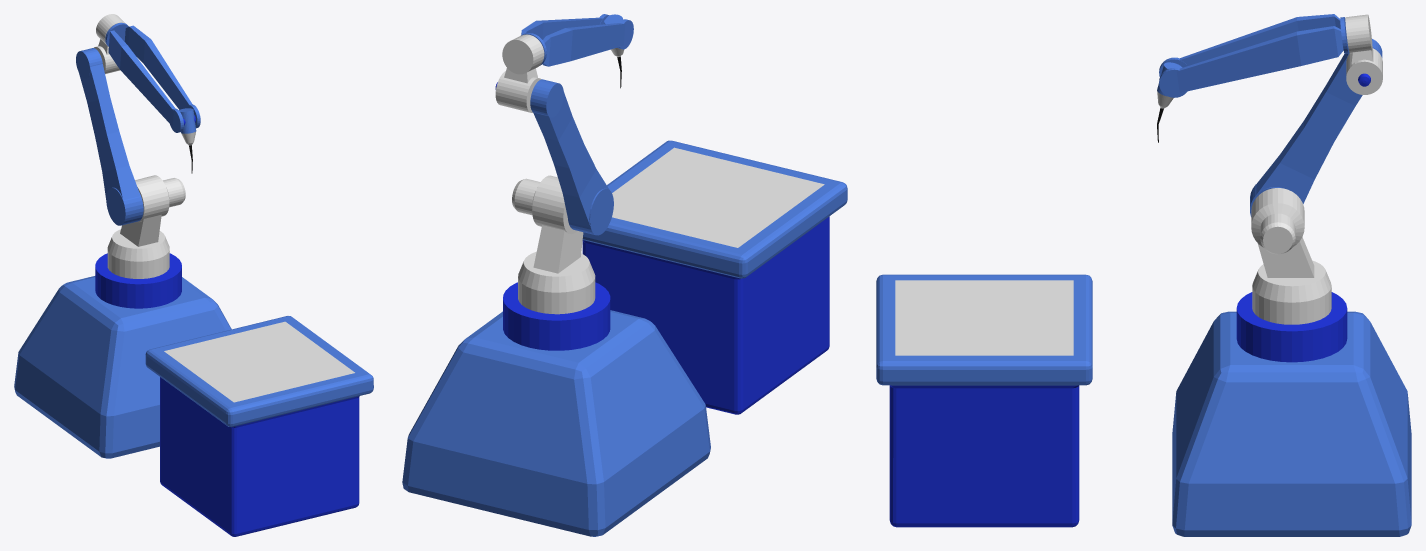
The model's file is RoboticArm.fbx.
The picture shows the model from 3 angles, left to right: view 1: azimuth 30°, elevation 25°; view 2: azimuth 150°, elevation 25°; view 3: azimuth 270°, elevation 25°; orthographic projection. The views are drawn at different scales.
Visible parts, largest first — view 1: Cube, Base, Arm.2, Arm.1, Arm.4, Arm.3, Weildiing; view 2: Base, Cube, Arm.1, Arm.2, Arm.4, Arm.3; view 3: Cube, Base, Arm.1, Arm.4, Arm.2, Arm.3.
Part boxes in pixels (x1,y1,x2,y2): Cube: (145, 316, 373, 536); Base: (14, 253, 231, 458); Arm.2: (76, 48, 143, 225); Arm.1: (107, 175, 185, 278); Arm.4: (105, 22, 200, 132); Arm.3: (94, 14, 125, 73); Weildiing: (179, 108, 196, 173); Base: (402, 282, 710, 536); Cube: (582, 140, 847, 414); Arm.1: (512, 175, 595, 314); Arm.2: (495, 79, 613, 235); Arm.4: (521, 14, 633, 66); Arm.3: (495, 34, 544, 112); Cube: (876, 274, 1092, 527); Base: (1172, 292, 1411, 536); Arm.1: (1251, 188, 1331, 324); Arm.4: (1159, 14, 1348, 97); Arm.2: (1250, 39, 1382, 216); Arm.3: (1345, 14, 1382, 94).
Size of the model in its own units: 0.9148 by 2.05 by 2.
